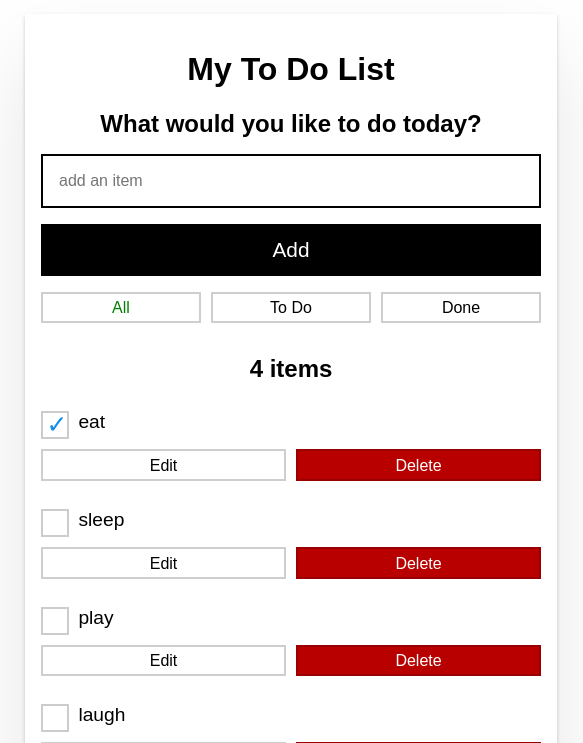
Test: Clearing done Todos › should clear done todos
This screenshot has width=583, height=743.
Click the button "Done" at (461, 308), box [381,292,541,324]
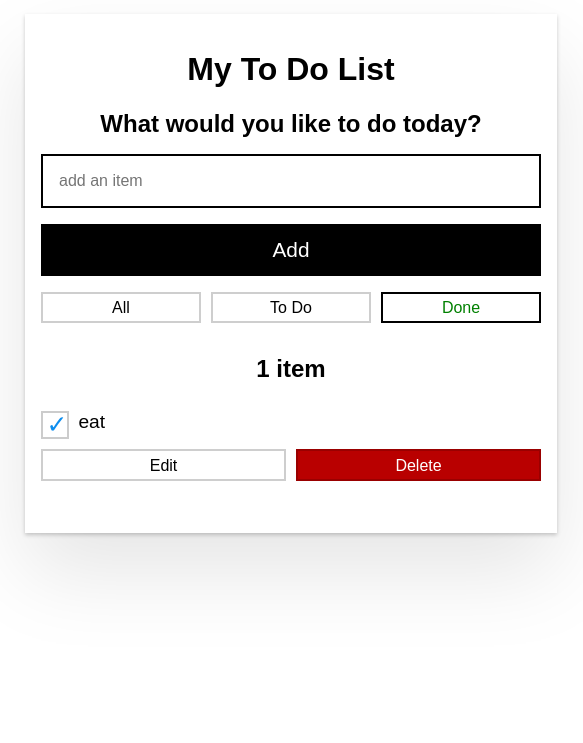
Expected: the text "eat" is shown, [78,411,105,432]
Click the button with class "btn-warn" at (419, 465), box [296,449,541,481]
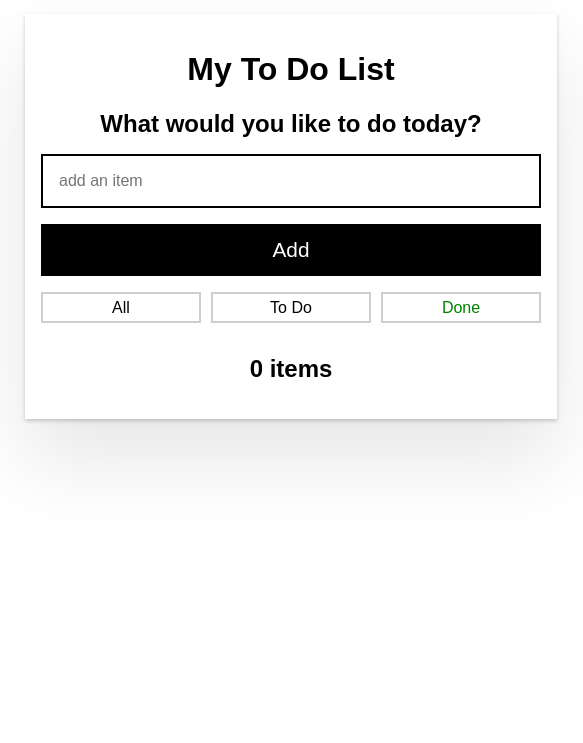
Now the text "eat" is gone
